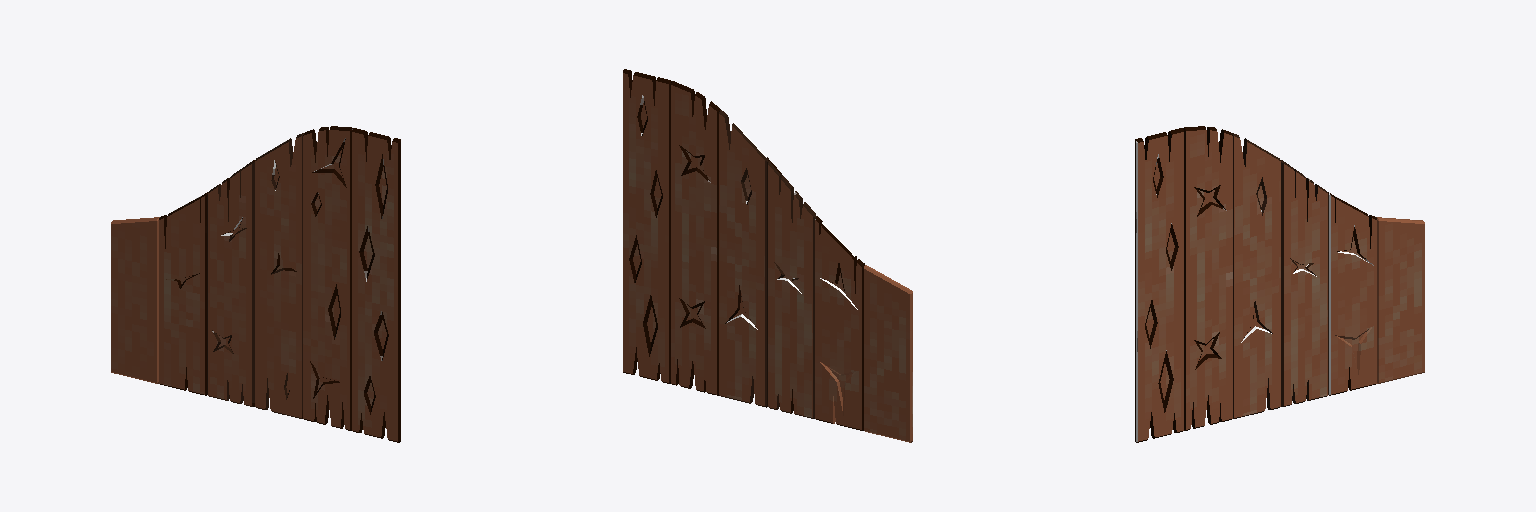
The picture shows the model from 3 angles: view 1: azimuth 30°, elevation 25°; view 2: azimuth 210°, elevation 25°; view 3: azimuth 270°, elevation 25°; orthographic projection.
Visible parts, largest first — view 1: houseopcPuerta; view 2: houseopcPuerta; view 3: houseopcPuerta.
Part boxes in pixels (x1,y1,x2,y2): houseopcPuerta: (111,126,400,442); houseopcPuerta: (623,69,912,442); houseopcPuerta: (1135,126,1424,442).
Size of the model in its own units: 3.09 by 6 by 5.22.
3 materials, 3 textured.